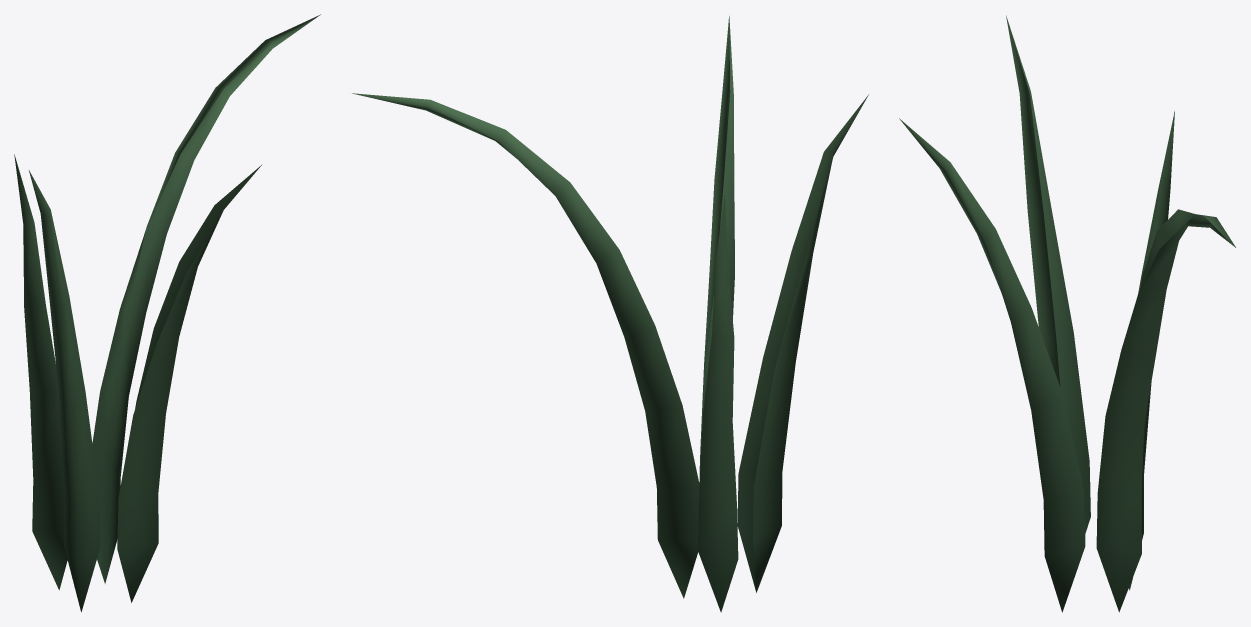
The model's file is trees-grasses-grass-blades_v7.glb.
3 renders of one model, left to right at view 1: azimuth 30°, elevation 25°; view 2: azimuth 150°, elevation 25°; view 3: azimuth 270°, elevation 25°, orthographic. The views are drawn at different scales.
Parts seen in each view (by area): view 1: Grass Blades_v7; view 2: Grass Blades_v7; view 3: Grass Blades_v7.
Boxes of the visible parts, x1,y1,x2,y2 form: Grass Blades_v7: (14,14,320,612); Grass Blades_v7: (352,16,868,612); Grass Blades_v7: (899,15,1235,612).
Size of the model in its own units: 0.2584 by 0.3 by 0.1736.
